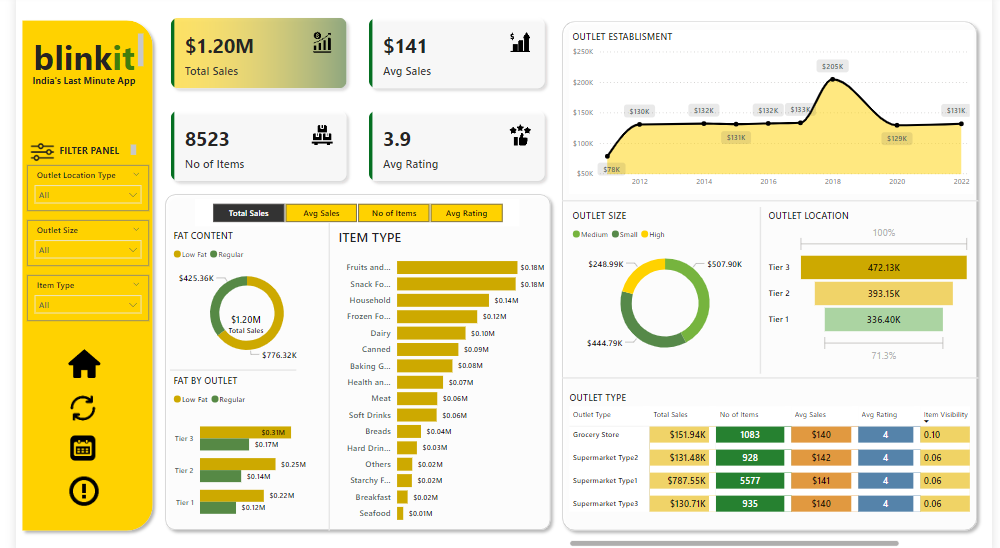

This screenshot's page, from the dashboard's own definition file:
{"tool":"powerbi","page":{"name":"Page 1","canvas":[1400,800],"ordinal":0},"visuals":[{"type":"shape","box":[0,25.2,205,750],"z":0},{"type":"textbox","box":[15.7,48.8,171.7,64.6],"z":1000},{"type":"textbox","box":[18.9,107.1,168.5,36.2],"z":2000},{"type":"cardVisual","fields":{"Data":["BlinkIT Grocery Data.Total Sales","BlinkIT Grocery Data.Avg Sales","BlinkIT Grocery Data.No of Items","BlinkIT Grocery Data.Avg Rating"]},"box":[204.7,14.2,570.1,269.3],"z":3000},{"type":"shape","box":[204.7,275.6,570.1,499.2],"z":4000},{"type":"donutChart","title":"FAT CONTENT","fields":{"Y":["BlinkIT Grocery Data.Total Sales"],"Category":["BlinkIT Grocery Data.Item Fat Content"]},"box":[220.5,333.9,220.5,196.9],"z":5000},{"type":"slicer","fields":{"Values":["Metrics.Metrics"]},"box":[256.7,291.3,464.6,39.4],"z":6000},{"type":"cardVisual","fields":{"Data":["BlinkIT Grocery Data.Total Sales"]},"box":[286.6,437.8,86.6,53.5],"z":7000},{"type":"clusteredBarChart","title":"FAT BY OUTLET","fields":{"Y":["BlinkIT Grocery Data.Total Sales"],"Category":["BlinkIT Grocery Data.Outlet Location Type"],"Series":["BlinkIT Grocery Data.Item Fat Content"]},"box":[220.5,541.7,220.5,225.2],"z":8000},{"type":"shape","box":[220.5,519.7,181.1,34.6],"z":9000},{"type":"shape","box":[428.3,326,40.9,440.9],"z":10000},{"type":"barChart","title":"ITEM TYPE","fields":{"Y":["BlinkIT Grocery Data.Total Sales"],"Category":["BlinkIT Grocery Data.Item Type"]},"box":[456.7,332.3,305.5,433.1],"z":11000},{"type":"shape","box":[774.8,26.8,612.6,748],"z":12000},{"type":"lineChart","title":" OUTLET ESTABLISMENT ","fields":{"Y":["BlinkIT Grocery Data.Total Sales"],"Category":["BlinkIT Grocery Data.Outlet Establishment Year"]},"box":[792.1,48.8,579.5,234.6],"z":13000},{"type":"shape","box":[782.7,264.6,596.9,56.7],"z":14000},{"type":"donutChart","title":"OUTLET SIZE","fields":{"Y":["BlinkIT Grocery Data.Total Sales"],"Category":["BlinkIT Grocery Data.Outlet Size"]},"box":[792.1,305.5,275.6,225.2],"z":15000},{"type":"shape","box":[1052,302.4,29.9,239.4],"z":16000},{"type":"funnel","title":"OUTLET LOCATION","fields":{"Y":["Sum(BlinkIT Grocery Data.Sales)"],"Category":["BlinkIT Grocery Data.Outlet Location Type"]},"box":[1074,305.5,299.2,225.2],"z":17000},{"type":"shape","box":[782.7,540.2,596.9,14.2],"z":18000},{"type":"pivotTable","title":"OUTLET TYPE","fields":{"Rows":["BlinkIT Grocery Data.Outlet Type"],"Values":["BlinkIT Grocery Data.Total Sales","BlinkIT Grocery Data.No of Items","BlinkIT Grocery Data.Avg Sales","BlinkIT Grocery Data.Avg Rating","Avg(BlinkIT Grocery Data.Item Visibility)"]},"box":[789,566.9,584.3,228.3],"z":19000},{"type":"slicer","fields":{"Values":["BlinkIT Grocery Data.Outlet Location Type"]},"box":[15.7,242.5,174.8,66.1],"z":19001},{"type":"slicer","fields":{"Values":["BlinkIT Grocery Data.Outlet Size"]},"box":[15.7,321.3,174.8,66.1],"z":19002},{"type":"slicer","fields":{"Values":["BlinkIT Grocery Data.Item Type"]},"box":[15.7,400,174.8,66.1],"z":19003},{"type":"textbox","box":[56.7,207.9,119.7,25.2],"z":19004},{"type":"image","box":[12.6,200,50.4,45.7],"z":19006},{"type":"image","box":[69.3,565.1,53.5,52],"z":19007},{"type":"image","box":[65.1,494.2,67.7,64.6],"z":19008},{"type":"image","box":[69.3,624.9,53.5,45.7],"z":19009},{"type":"image","box":[64.6,683.2,66.1,52],"z":19010}]}

Visuals, with their boxes on the page's 1400x800 design canvas (x1, y1, x2, y2). These are canvas units, not pixel positions in the 1000x548 screenshot, which may show the page scaled, cropped or inside an application window:
shape: (0,25,205,775)
textbox: (16,49,187,113)
textbox: (19,107,187,143)
cardVisual - BlinkIT Grocery Data.Total Sales x BlinkIT Grocery Data.Avg Sales: (205,14,775,284)
shape: (205,276,775,775)
"FAT CONTENT" donutChart: (220,334,441,531)
slicer - Metrics.Metrics: (257,291,721,331)
cardVisual - BlinkIT Grocery Data.Total Sales: (287,438,373,491)
"FAT BY OUTLET" clusteredBarChart: (220,542,441,767)
shape: (220,520,402,554)
shape: (428,326,469,767)
"ITEM TYPE" barChart: (457,332,762,765)
shape: (775,27,1387,775)
" OUTLET ESTABLISMENT " lineChart: (792,49,1372,283)
shape: (783,265,1380,321)
"OUTLET SIZE" donutChart: (792,306,1068,531)
shape: (1052,302,1082,542)
"OUTLET LOCATION" funnel: (1074,306,1373,531)
shape: (783,540,1380,554)
"OUTLET TYPE" pivotTable: (789,567,1373,795)
slicer - BlinkIT Grocery Data.Outlet Location Type: (16,242,190,309)
slicer - BlinkIT Grocery Data.Outlet Size: (16,321,190,387)
slicer - BlinkIT Grocery Data.Item Type: (16,400,190,466)
textbox: (57,208,176,233)
image: (13,200,63,246)
image: (69,565,123,617)
image: (65,494,133,559)
image: (69,625,123,671)
image: (65,683,131,735)
